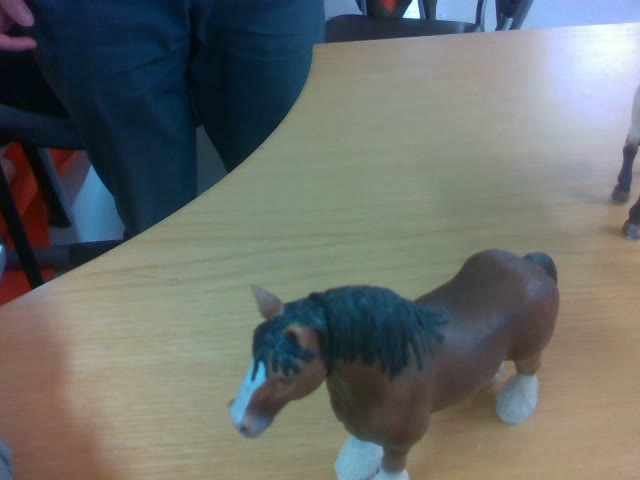toy: (229, 250, 560, 480)
